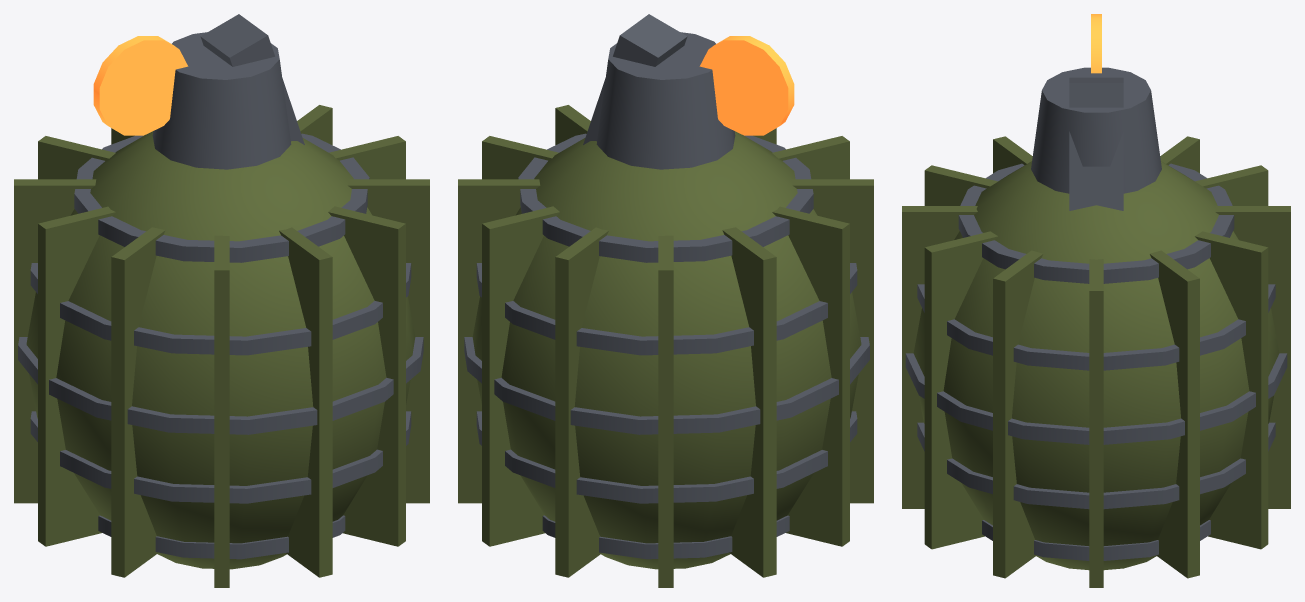
File: grenade.glb
3 views of the same model, side by side, from view 1: azimuth 30°, elevation 25°; view 2: azimuth 150°, elevation 25°; view 3: azimuth 270°, elevation 25° (orthographic). The views are drawn at different scales.
Parts seen in each view (by area): view 1: body; view 2: body; view 3: body.
Boxes of the visible parts, x1,y1,x2,y2 form: body: (14,14,429,587); body: (458,14,873,587); body: (902,14,1290,587).
Size of the model in its own units: 0.0712 by 0.1011 by 0.0712.
